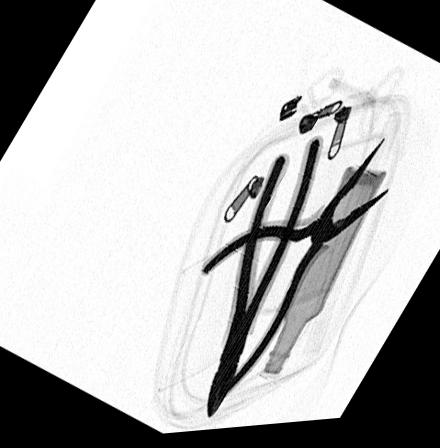Pliers: (199, 144, 389, 401), (205, 140, 324, 422)
